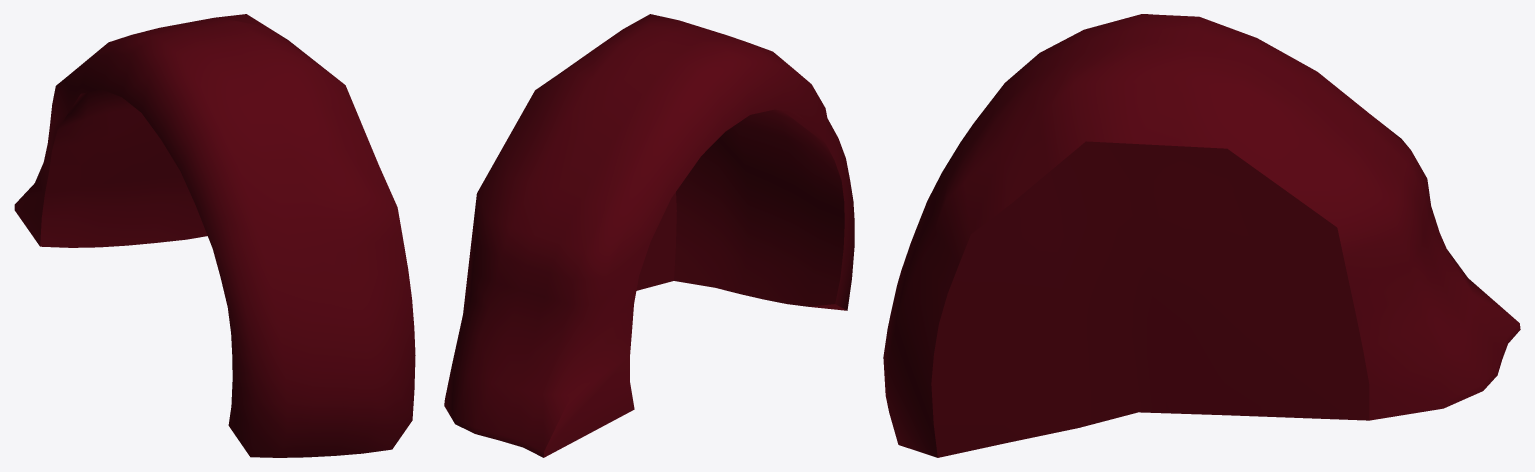
The model's file is NashTT.ArcRR.glb.
3 renders of one model, left to right at view 1: azimuth 30°, elevation 25°; view 2: azimuth 150°, elevation 25°; view 3: azimuth 270°, elevation 25°, orthographic. The views are drawn at different scales.
Parts seen in each view (by area): view 1: Cube.r; view 2: Cube.r; view 3: Cube.r.
Part boxes in pixels (x1=…): Cube.r: x1=14, y1=14, x2=415, y2=457; Cube.r: x1=444, y1=14, x2=854, y2=457; Cube.r: x1=883, y1=14, x2=1520, y2=457.
Size of the model in its own units: 0.7897 by 1.33 by 2.05.
